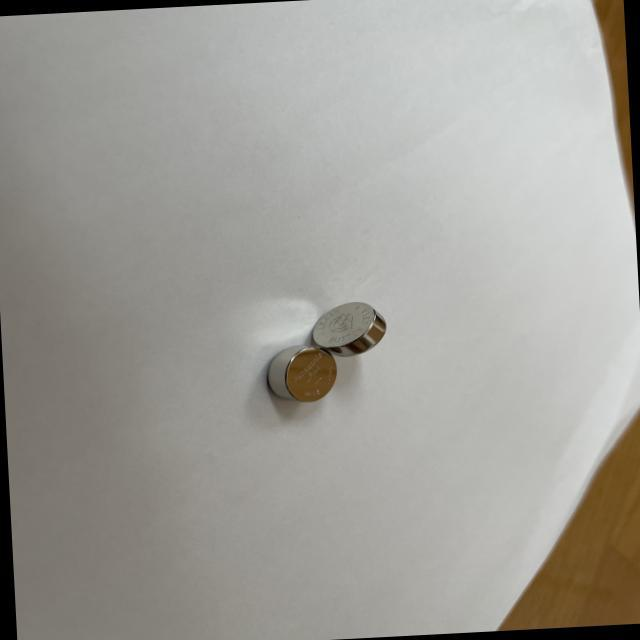COIN: (308, 300, 389, 358), (264, 344, 338, 406)
